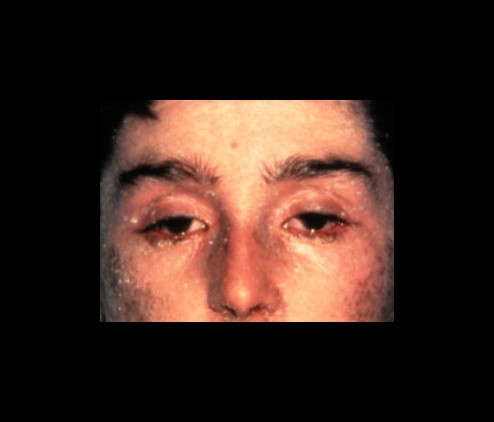SJS-TEN: (119, 204, 216, 253), (285, 208, 356, 235)
